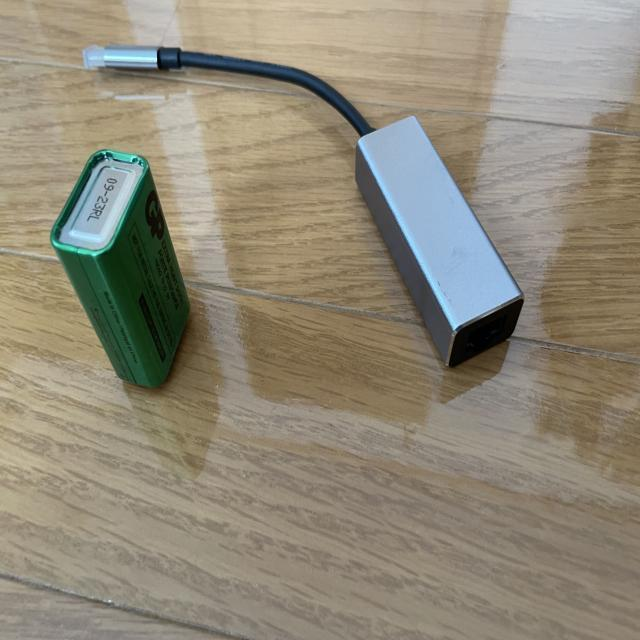9V: (49, 150, 191, 391)
